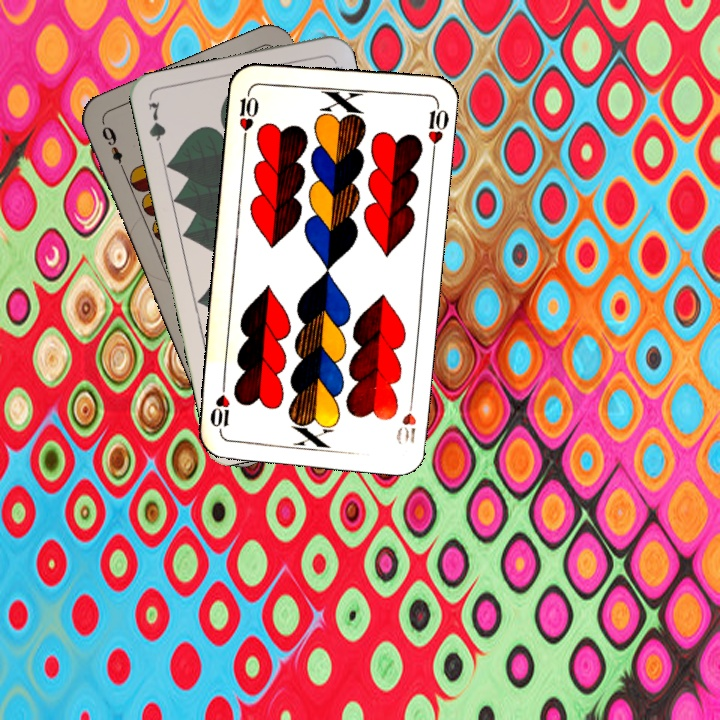E9: (97, 119, 128, 176)
G7: (144, 97, 169, 157)
H10: (391, 390, 419, 447), (235, 84, 262, 143)
